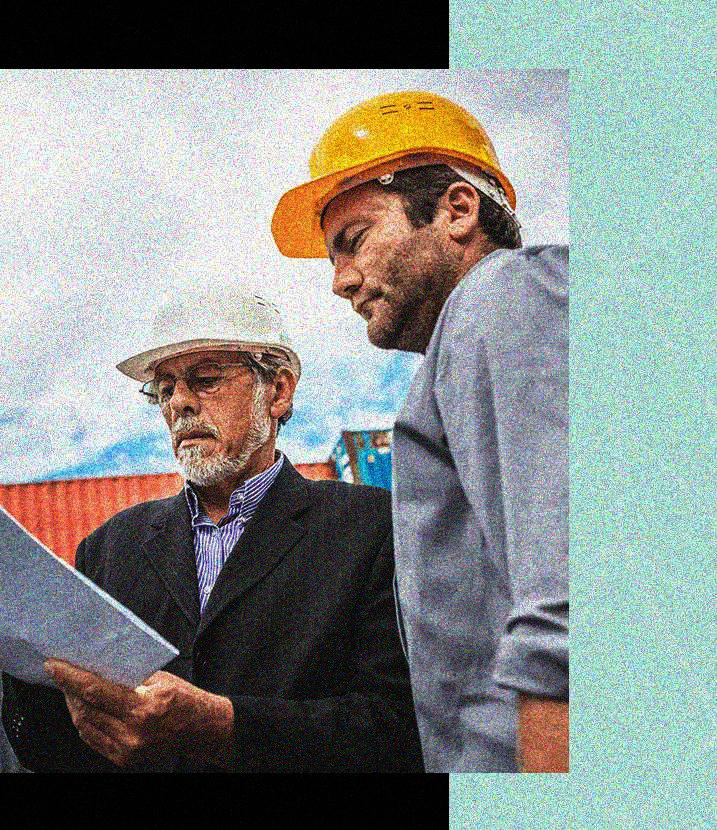helmet: (267, 87, 517, 343), (115, 270, 309, 485)
